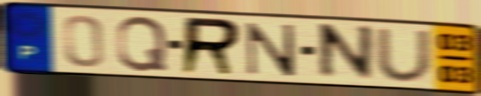0: (61, 13, 106, 69)
N: (315, 22, 376, 83), (244, 20, 298, 78)
Q: (114, 14, 170, 73)
R: (177, 14, 244, 77)
U: (373, 27, 436, 84)
